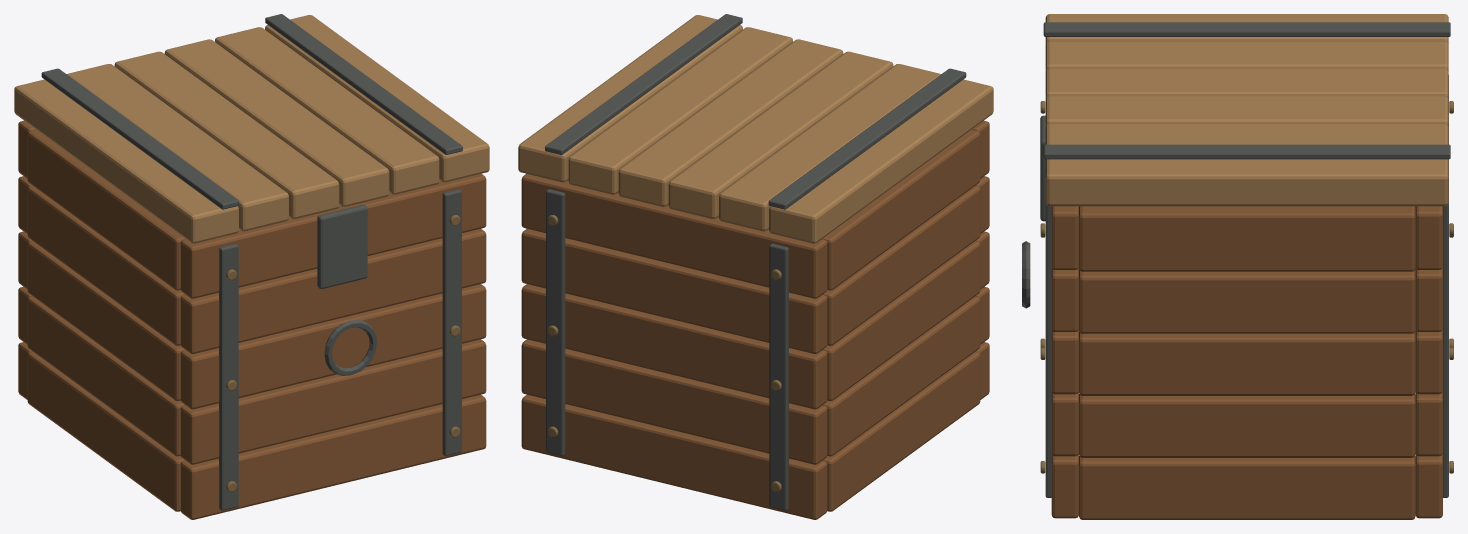
Rendered from TransportChest.fbx.
The picture shows the model from 3 angles, left to right: view 1: azimuth 30°, elevation 25°; view 2: azimuth 150°, elevation 25°; view 3: azimuth 270°, elevation 25°; orthographic projection. The views are drawn at different scales.
Visible parts, largest first — view 1: TransportChest; view 2: TransportChest; view 3: TransportChest.
Boxes of the visible parts, box(x1,y1,x2,y2) form: TransportChest: box(14, 14, 489, 519); TransportChest: box(518, 14, 993, 519); TransportChest: box(1022, 14, 1453, 519).
Size of the model in its own units: 100 by 99.8 by 110.
